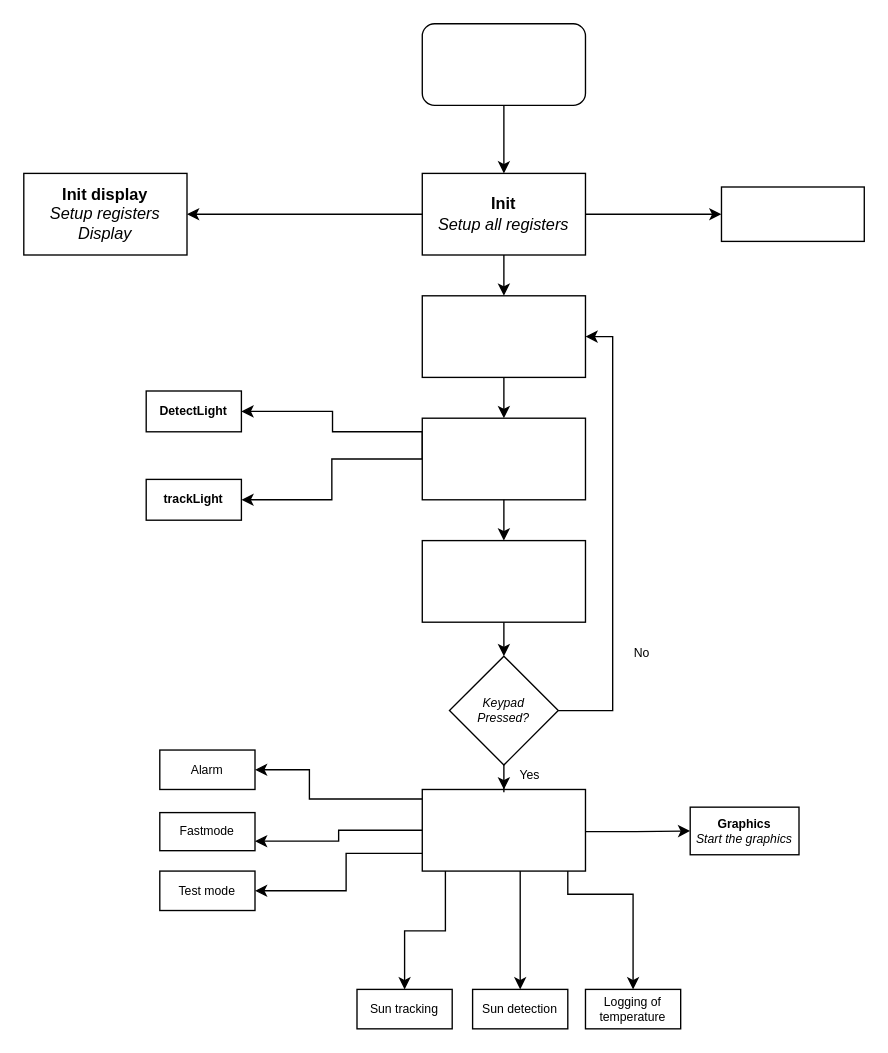
Some shapes in this 888 by 1053 pixel diagram are drawn without their labels. Here are the shapes that lost their labels. From the top down, the centre of each, then its label:
At (x=503, y=63): "Main".
At (x=792, y=213): "Systeminit Disable watchdog Setup MCK".
At (x=503, y=335): "Main loop".
At (x=503, y=458): "Execute Start active thread".
At (x=503, y=580): "Handler Handle the flag".
At (x=503, y=829): "dispatch Set flag for functions".
